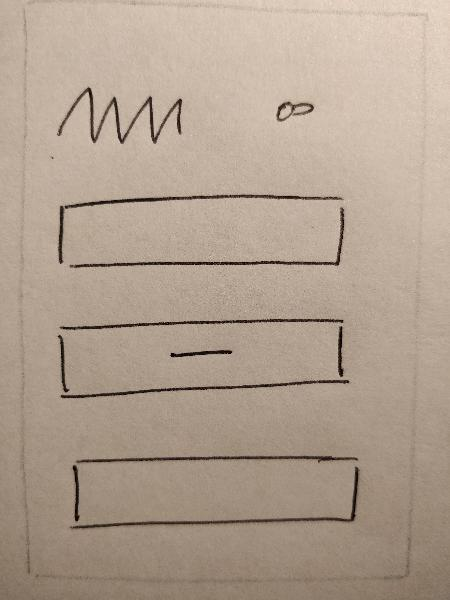button: (45, 312, 359, 402)
switch: (259, 86, 327, 132)
text: (47, 78, 193, 152)
text_input: (49, 188, 355, 281), (64, 444, 369, 537)
